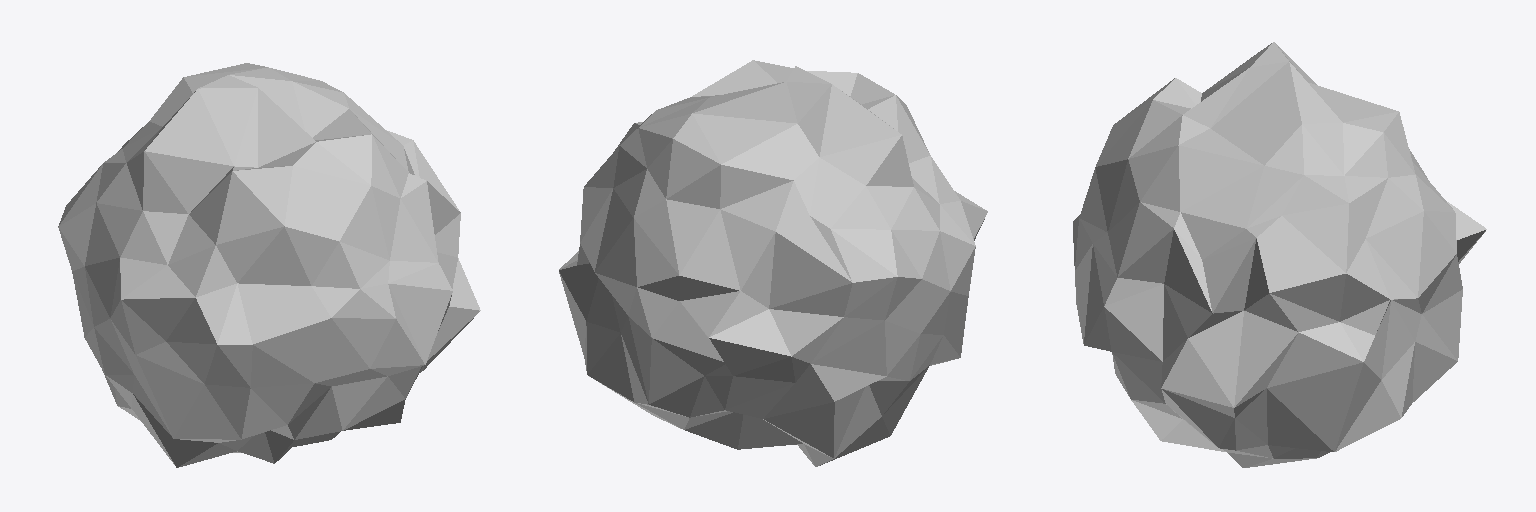
Rendered from fire_000026.obj.
3 renders of one model, left to right at view 1: azimuth 30°, elevation 25°; view 2: azimuth 150°, elevation 25°; view 3: azimuth 270°, elevation 25°, orthographic.
Parts seen in each view (by area): view 1: Icosphere; view 2: Icosphere; view 3: Icosphere.
Part boxes in pixels (bbox=[...]): Icosphere: bbox=[58, 63, 480, 467]; Icosphere: bbox=[559, 60, 987, 466]; Icosphere: bbox=[1073, 42, 1486, 467].
Size of the model in its own units: 1.53 by 1.57 by 1.6.